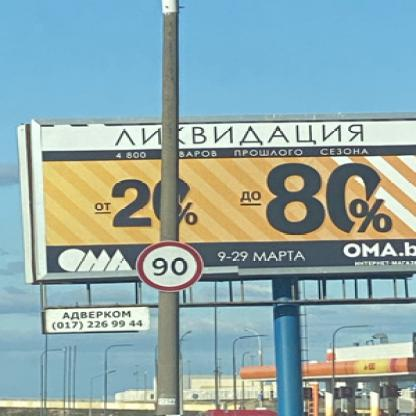speedlimit: (135, 240, 201, 290)
